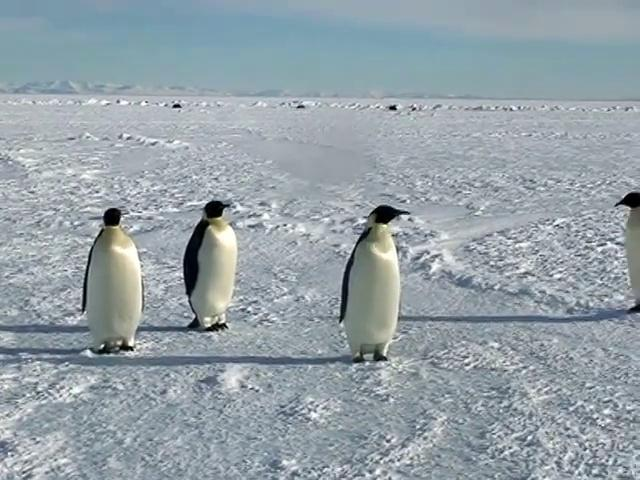animal: (340, 205, 408, 362)
